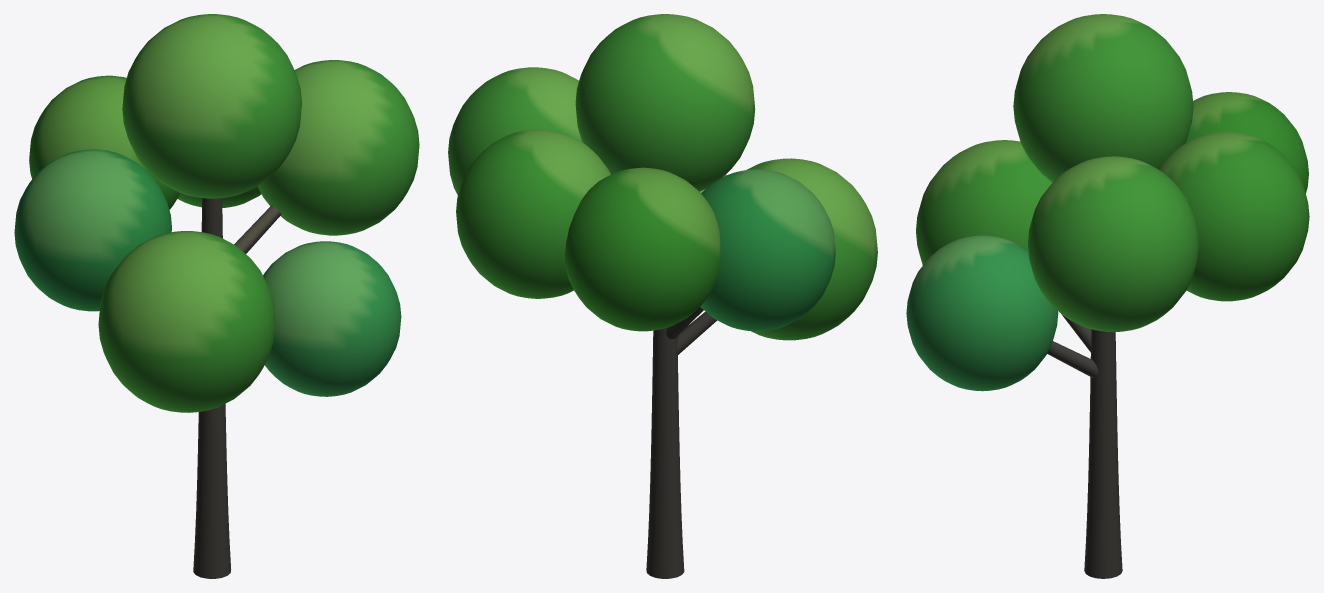
The model's file is tree-102.obj.
3 views of the same model, side by side, from view 1: azimuth 30°, elevation 25°; view 2: azimuth 150°, elevation 25°; view 3: azimuth 270°, elevation 25° (orthographic).
Parts seen in each view (by area): view 1: tree; view 2: tree; view 3: tree.
Part boxes in pixels (x1,y1,x2,y2): tree: (14, 14, 419, 578); tree: (448, 14, 877, 578); tree: (906, 14, 1309, 578).
Bounding box in the file's own units: 273 × 382 × 254.
